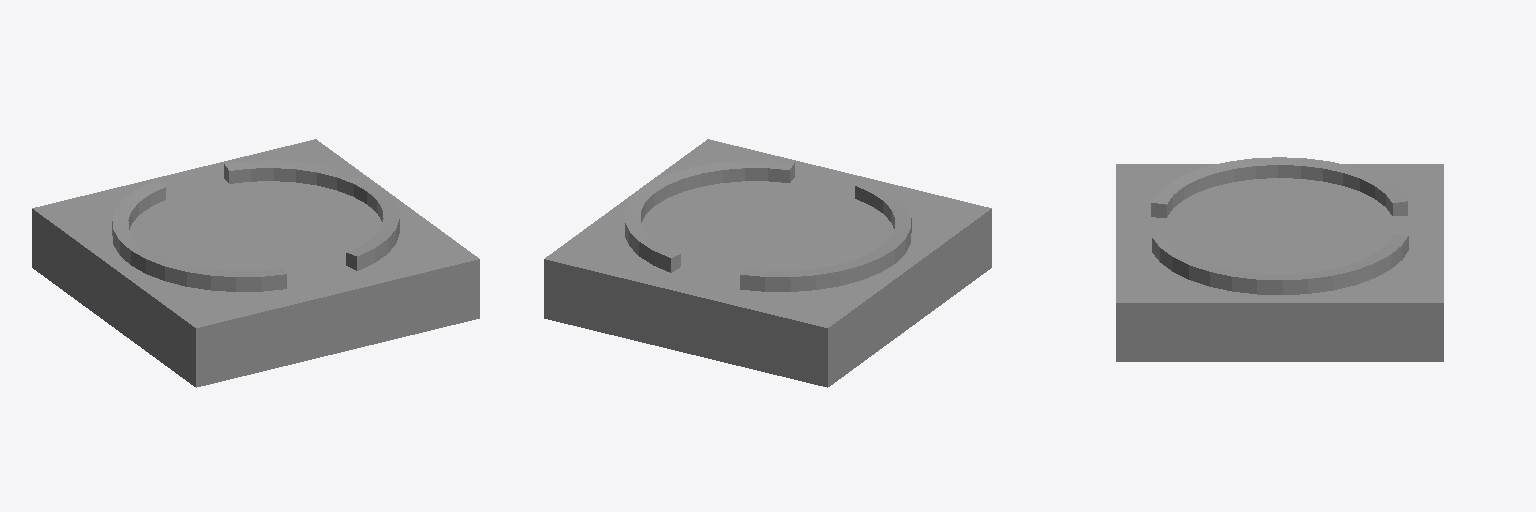
The model's file is bb_teleporter.obj.
3 views of the same model, side by side, from view 1: azimuth 30°, elevation 25°; view 2: azimuth 150°, elevation 25°; view 3: azimuth 270°, elevation 25° (orthographic).
Visible parts, largest first — view 1: tile_Cube, Cylinder_Cylinder.002, Cylinder.001_Cylinder.003; view 2: tile_Cube, Cylinder.001_Cylinder.003, Cylinder_Cylinder.002; view 3: tile_Cube, Cylinder_Cylinder.002, Cylinder.001_Cylinder.003.
Boxes of the visible parts, box(x1,y1,x2,y2) form: tile_Cube: box(32, 139, 479, 387); Cylinder_Cylinder.002: box(224, 160, 399, 270); Cylinder.001_Cylinder.003: box(112, 181, 286, 291); tile_Cube: box(544, 139, 991, 387); Cylinder.001_Cylinder.003: box(740, 180, 911, 291); Cylinder_Cylinder.002: box(625, 161, 794, 272); tile_Cube: box(1116, 164, 1443, 361); Cylinder_Cylinder.002: box(1152, 234, 1408, 294); Cylinder.001_Cylinder.003: box(1151, 157, 1407, 217).
Bounding box in the file's own units: 2 × 0.5 × 2.